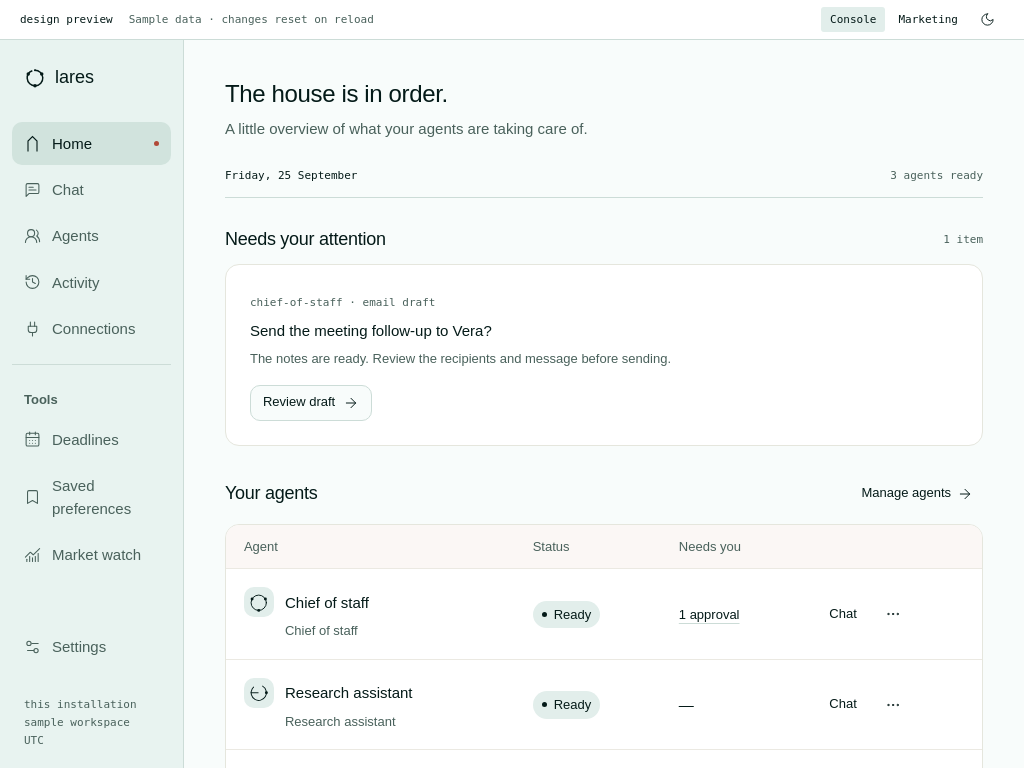
Test case: standalone preview journeys › validates duplicate names and keeps the entered instructions
The image size is (1024, 768).
Click the button "Agents".
click(92, 236)  # box [12, 214, 171, 258]
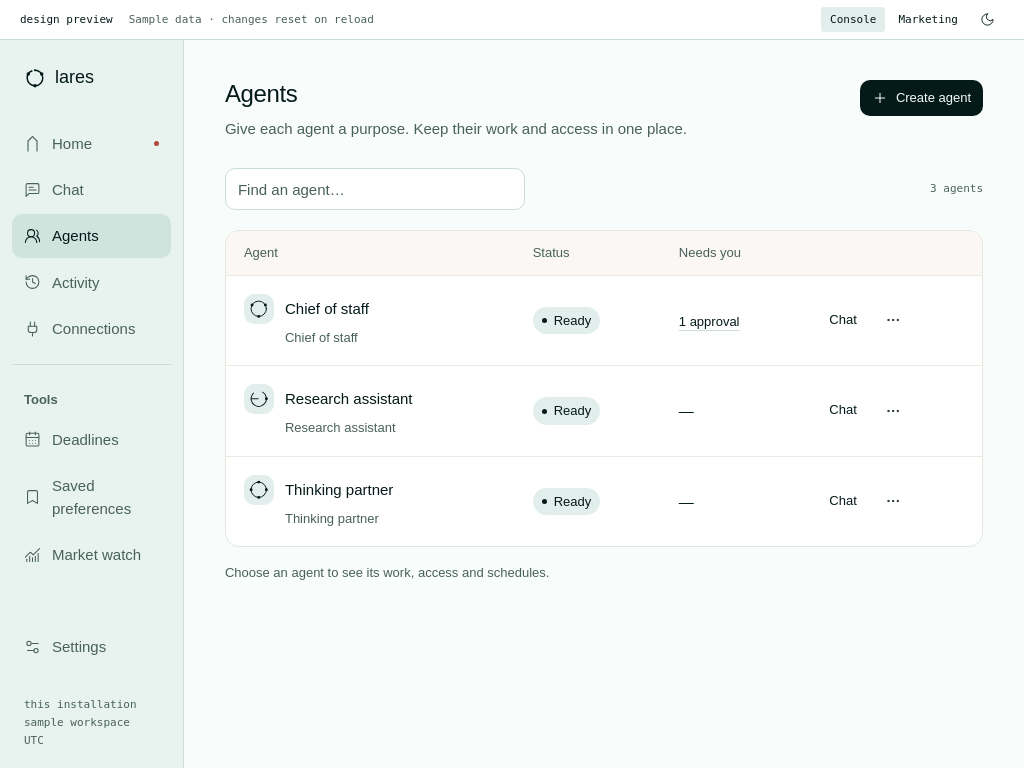
Click the button "Create agent".
click(922, 98)  # box [860, 80, 983, 116]
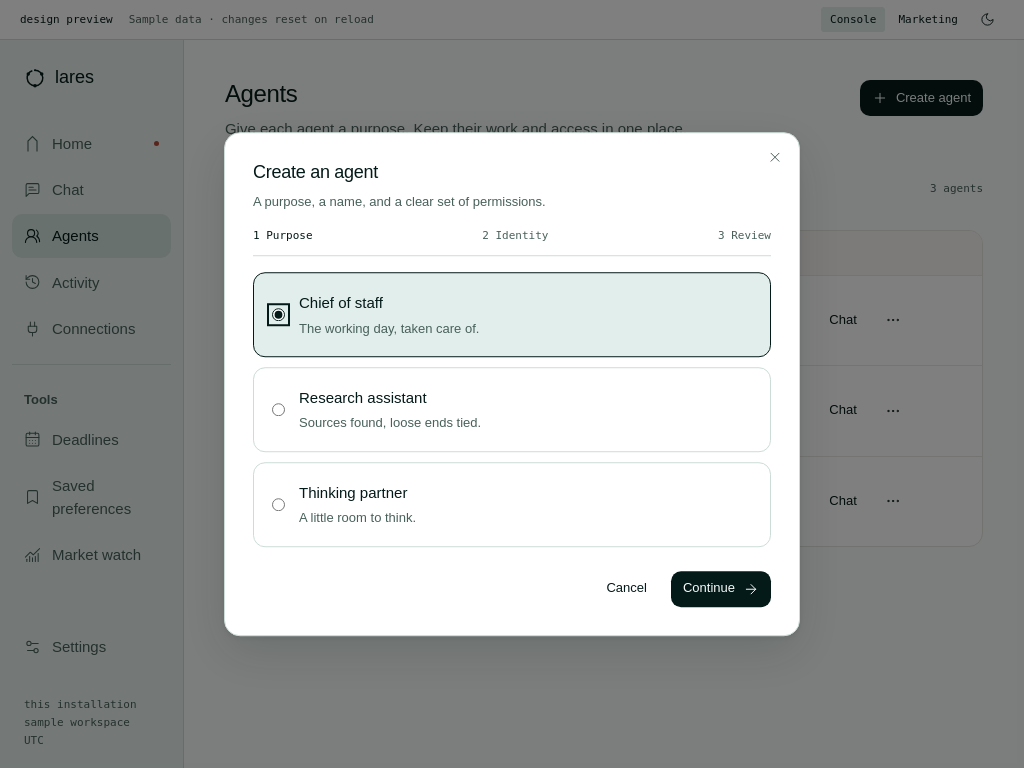
Click the button "Continue".
click(721, 589)  # box [671, 571, 771, 607]
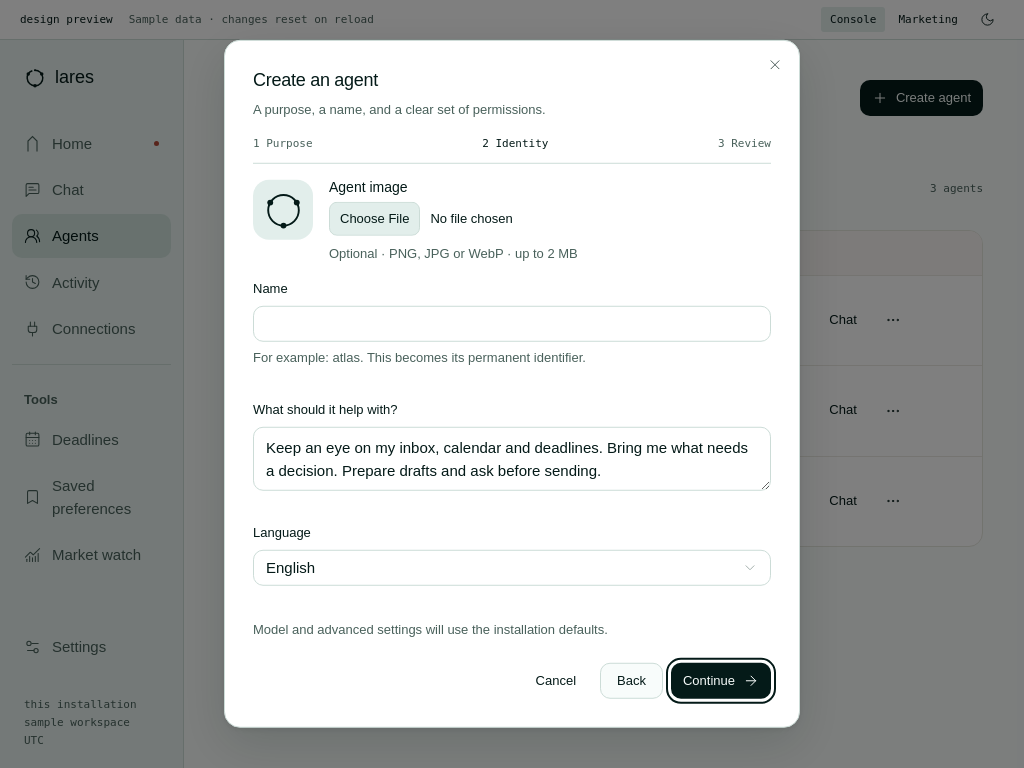
Type "Chief of staff" into the field named "Agent name".
click(512, 324); type("Chief of staff")  # box [253, 306, 771, 342]
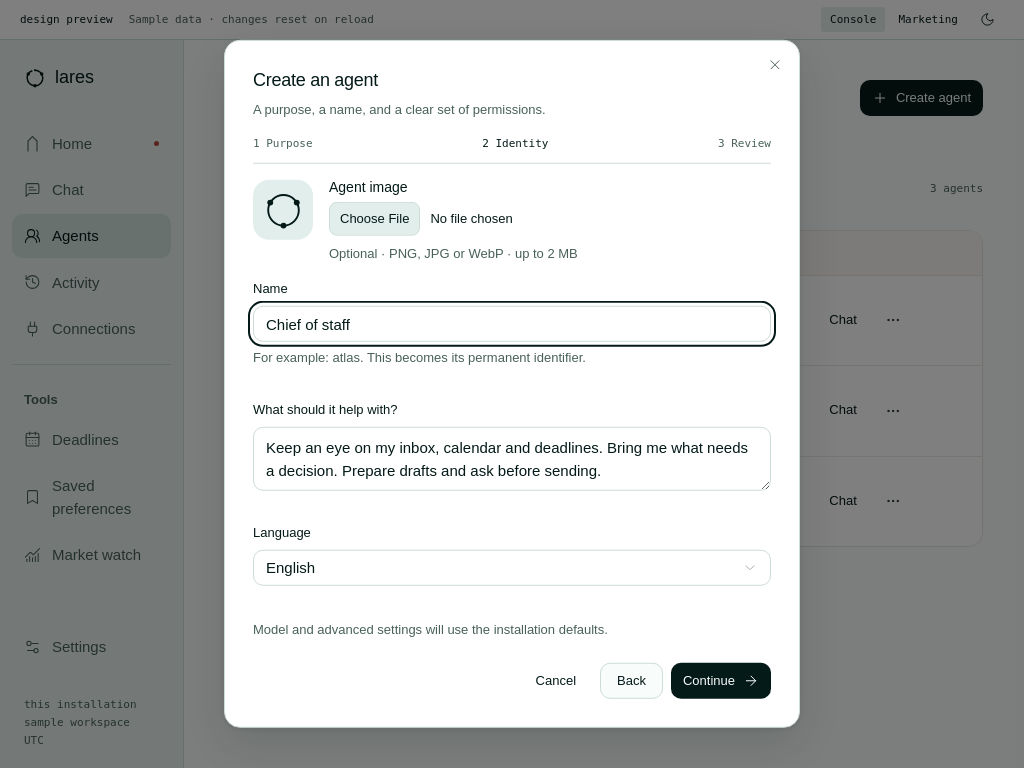
Click the button "Continue".
click(721, 681)  # box [671, 663, 771, 699]
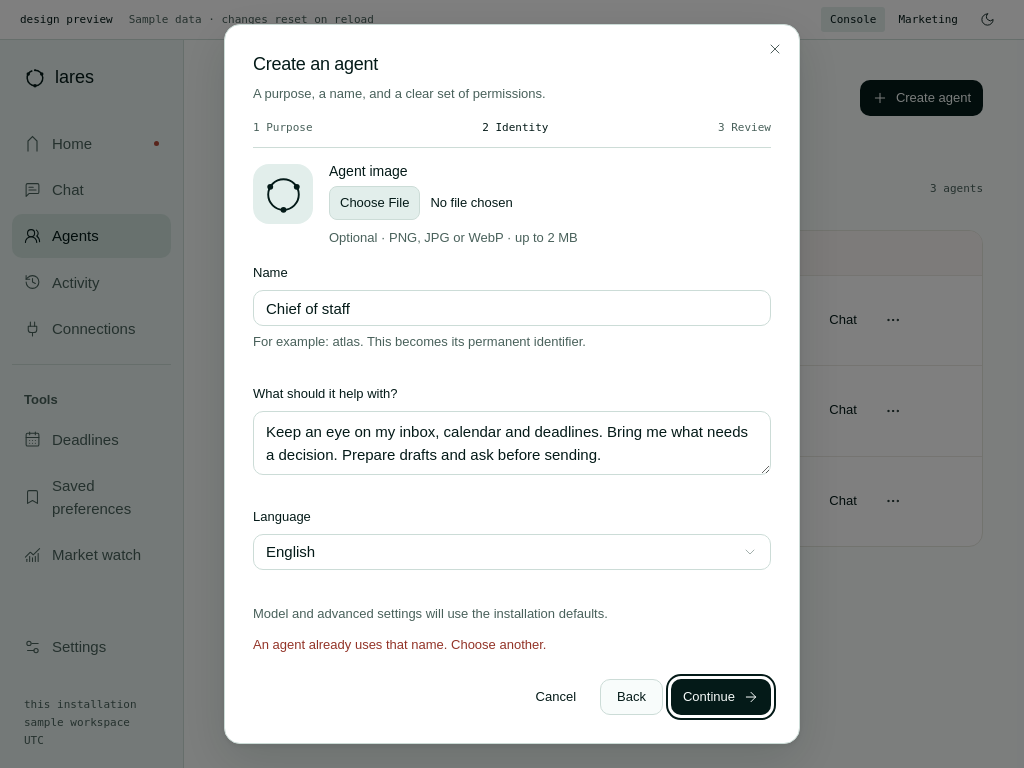
Result: the message shows "already uses that name" at [253, 638, 546, 652]
